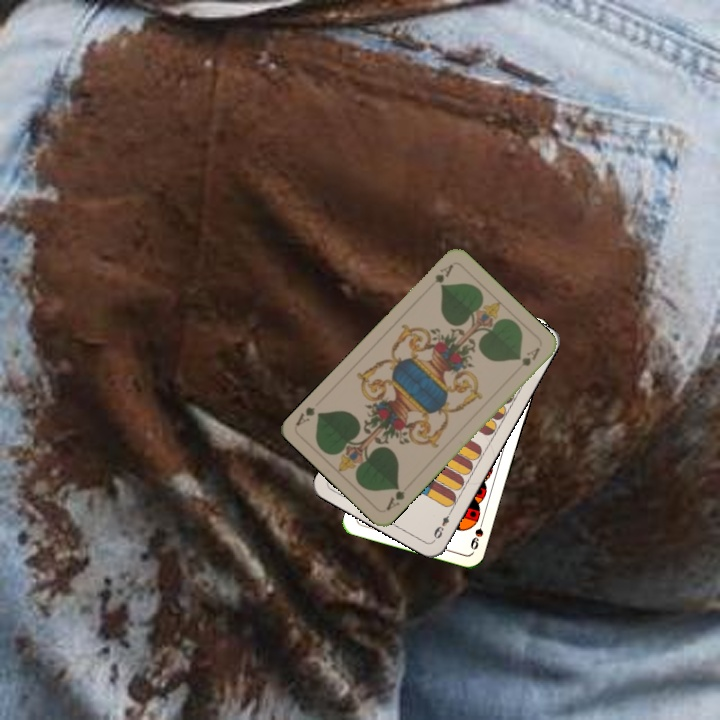E9: (429, 506, 455, 543)
GA: (382, 482, 407, 513), (430, 260, 456, 289)
S9: (466, 513, 487, 552)
